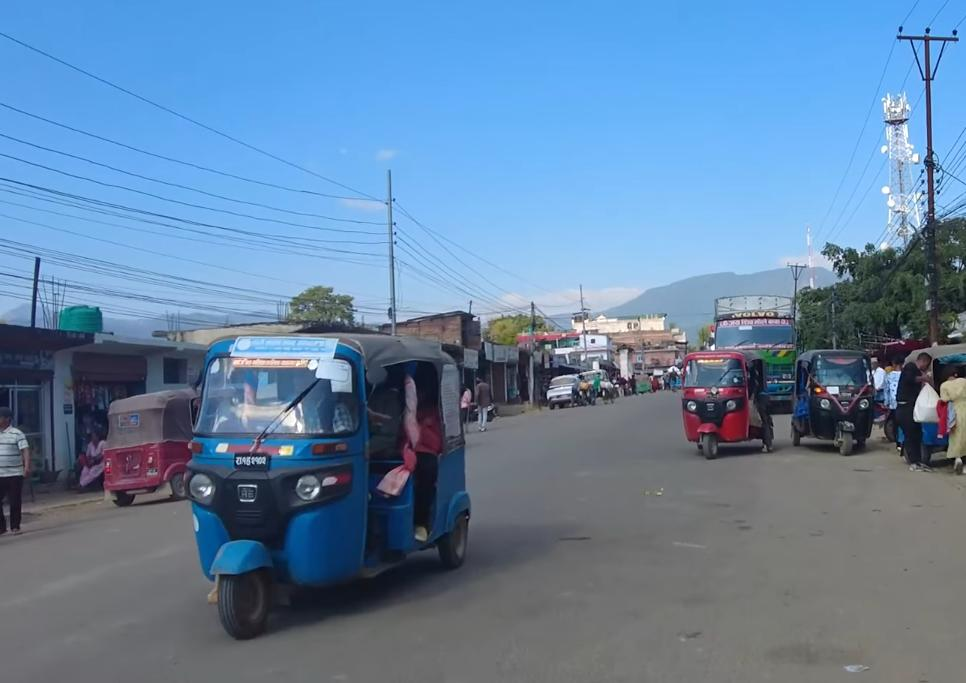auto_rickshaw: (175, 322, 493, 647), (97, 385, 214, 503), (676, 349, 778, 461), (791, 342, 886, 457)
